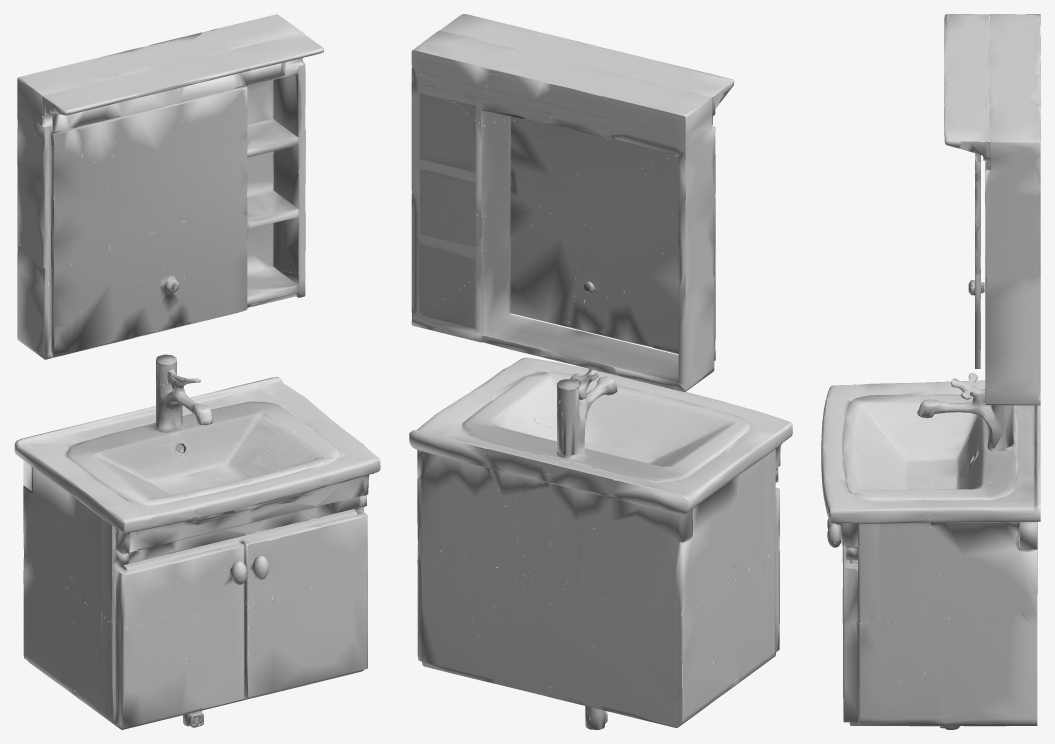
File: vanity.glb
3 views of the same model, side by side, from view 1: azimuth 30°, elevation 25°; view 2: azimuth 150°, elevation 25°; view 3: azimuth 270°, elevation 25° (orthographic). The views are drawn at different scales.
Parts seen in each view (by area): view 1: vanity; view 2: vanity; view 3: vanity.
Boxes of the visible parts, x1=… form: vanity: x1=14, y1=14, x2=380, y2=729; vanity: x1=409, y1=14, x2=792, y2=729; vanity: x1=821, y1=14, x2=1040, y2=729.
Size of the model in its own units: 0.75 by 1.74 by 0.533.
Materials: 1 (1 with a texture image).
